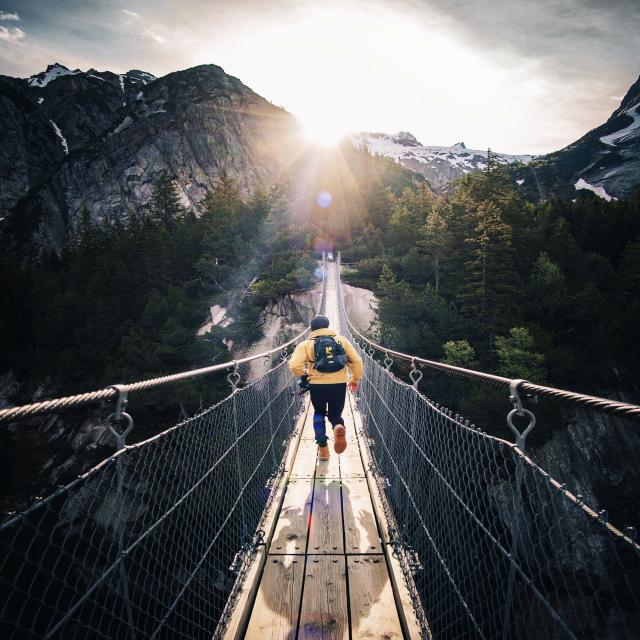adult: (287, 312, 365, 460)
